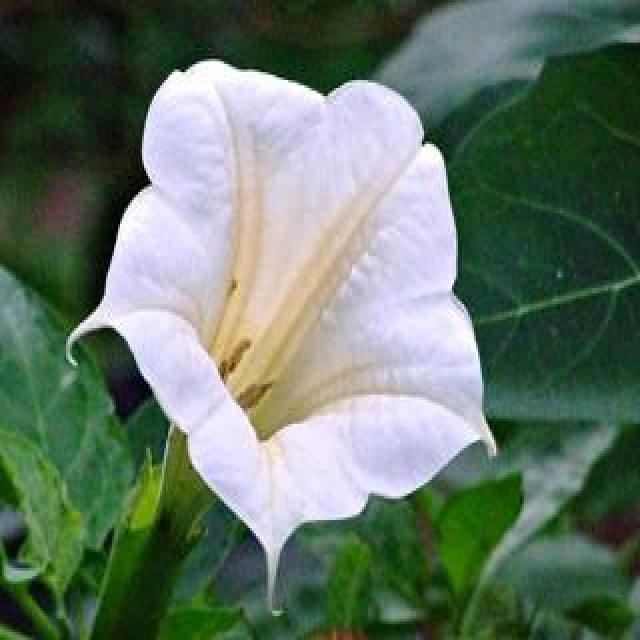organic waste: (72, 59, 512, 560)
